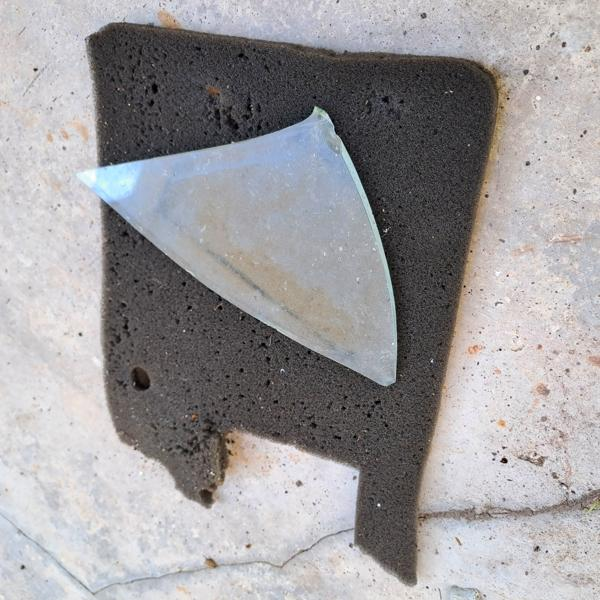Anorganik: (59, 103, 397, 377)
